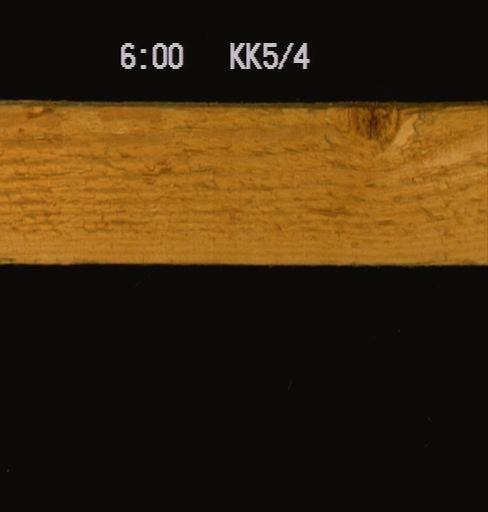edge_knot: (322, 103, 412, 150)
